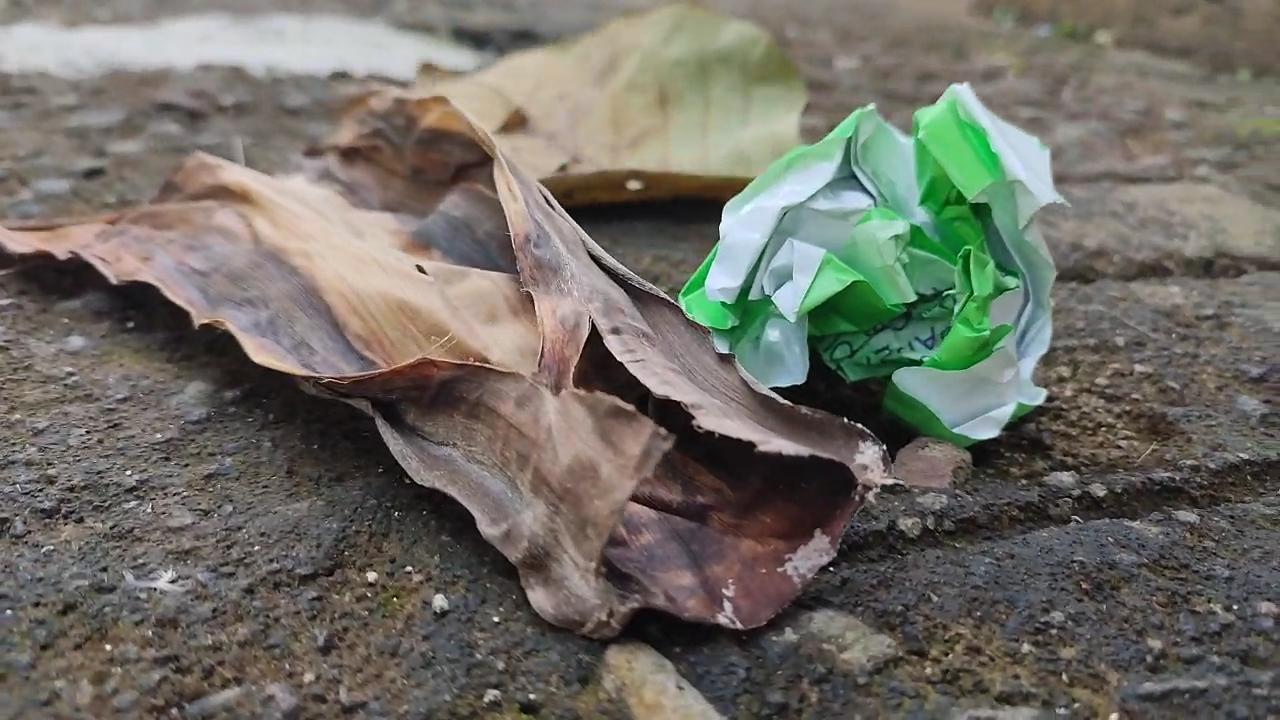Paper: (675, 94, 1066, 457)
